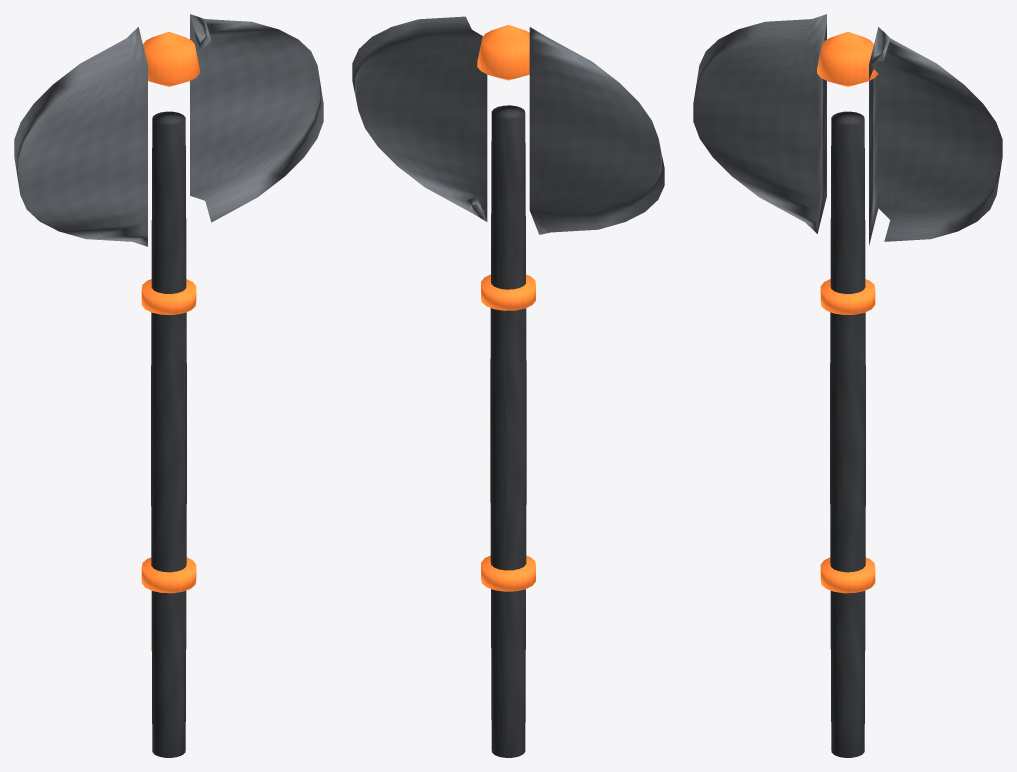
File: generic_battleaxe_fire.glb
The picture shows the model from 3 angles, left to right: view 1: azimuth 30°, elevation 25°; view 2: azimuth 150°, elevation 25°; view 3: azimuth 330°, elevation 25°; orthographic projection.
Parts seen in each view (by area): view 1: Battle Axe of Fire; view 2: Battle Axe of Fire; view 3: Battle Axe of Fire.
Boxes of the visible parts, x1,y1,x2,y2 form: Battle Axe of Fire: (14,14,323,757); Battle Axe of Fire: (352,16,664,757); Battle Axe of Fire: (693,14,1002,757).
Bounding box in the file's own units: 0.4019 × 0.92 × 0.0709.
Materials: 3 (3 with a texture image).
